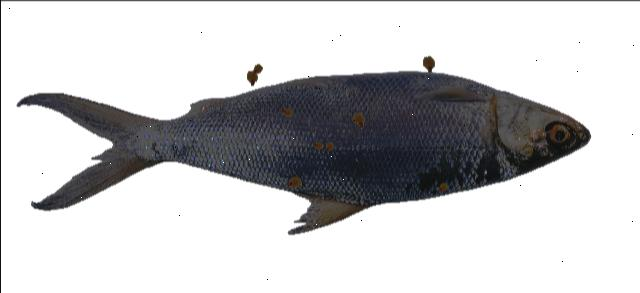Parasitic Disease: (19, 72, 589, 233), (19, 72, 589, 233)
